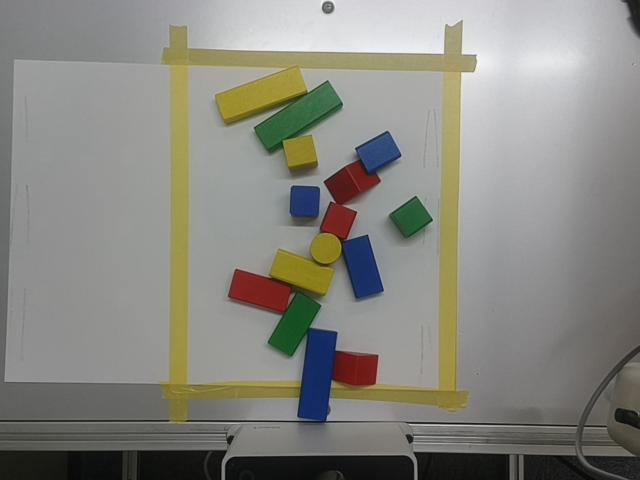blue_cube: (291, 186, 319, 215)
blue_longrect: (297, 329, 337, 420)
blue_rect: (343, 237, 383, 299)
cylinder: (311, 234, 340, 262)
green_cube: (390, 196, 433, 238)
green_longrect: (255, 81, 343, 151)
green_rect: (267, 293, 321, 356)
half_cylinder: (357, 132, 401, 173)
red_cube: (321, 203, 356, 238)
red_rect: (228, 269, 291, 312)
triangle: (325, 160, 378, 204), (333, 352, 379, 385)
yellow_archrect: (270, 250, 334, 294)
yellow_cube: (283, 135, 317, 173)
yellow_longrect: (215, 65, 307, 124)
